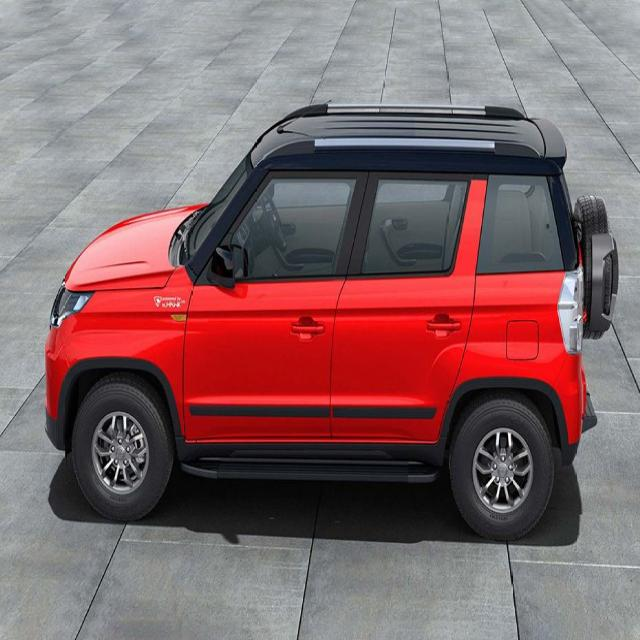light_vehicle: (44, 101, 618, 536)
